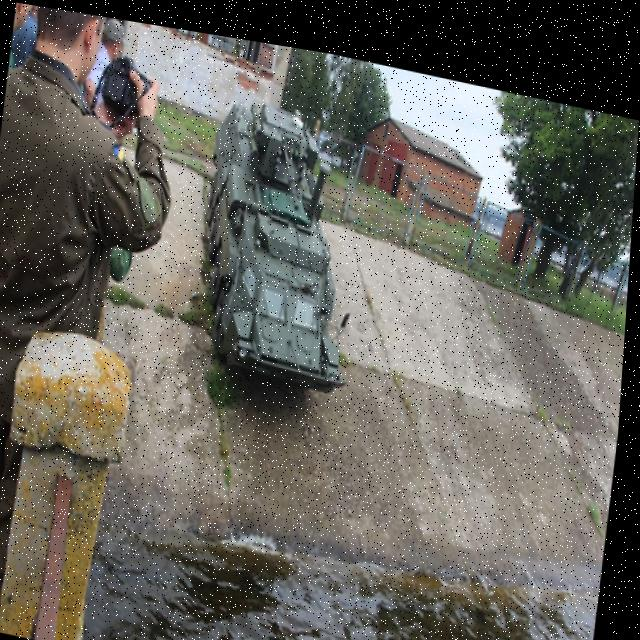MIL_APC: (166, 62, 405, 410)
